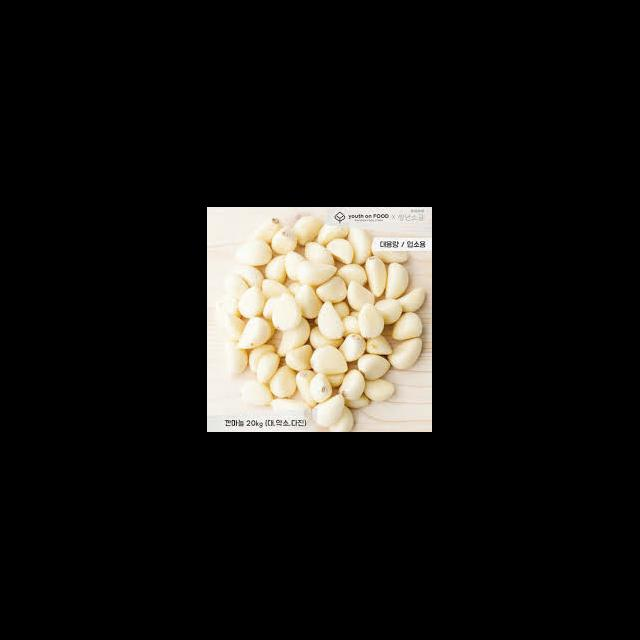garlic: (233, 284, 314, 378), (292, 260, 380, 342), (312, 302, 392, 388)
